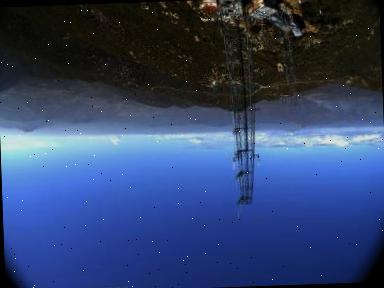smoke: (300, 93, 384, 122)
